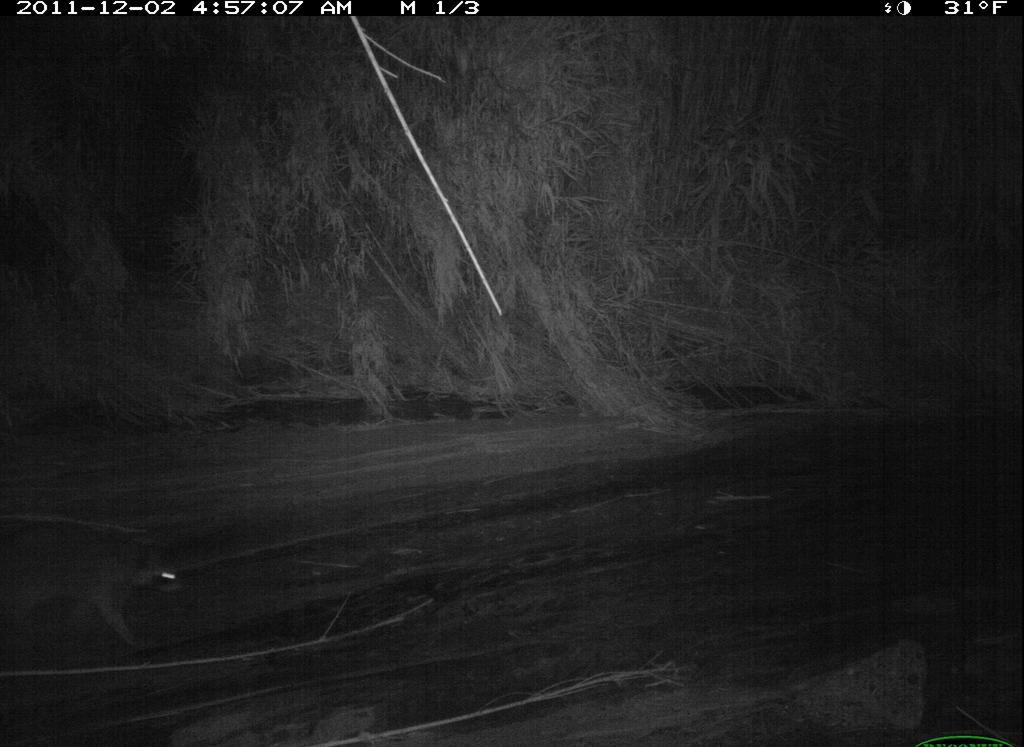raccoon: (9, 498, 204, 648)
